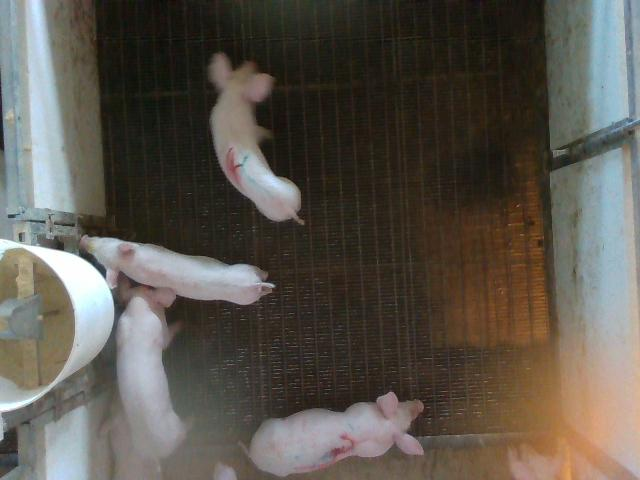pig-3: (245, 392, 424, 476)
pig-4: (209, 54, 304, 224)
